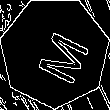M_NW: (23, 20, 87, 84)
